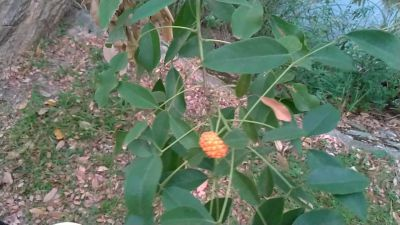eggs: (198, 129, 231, 164)
